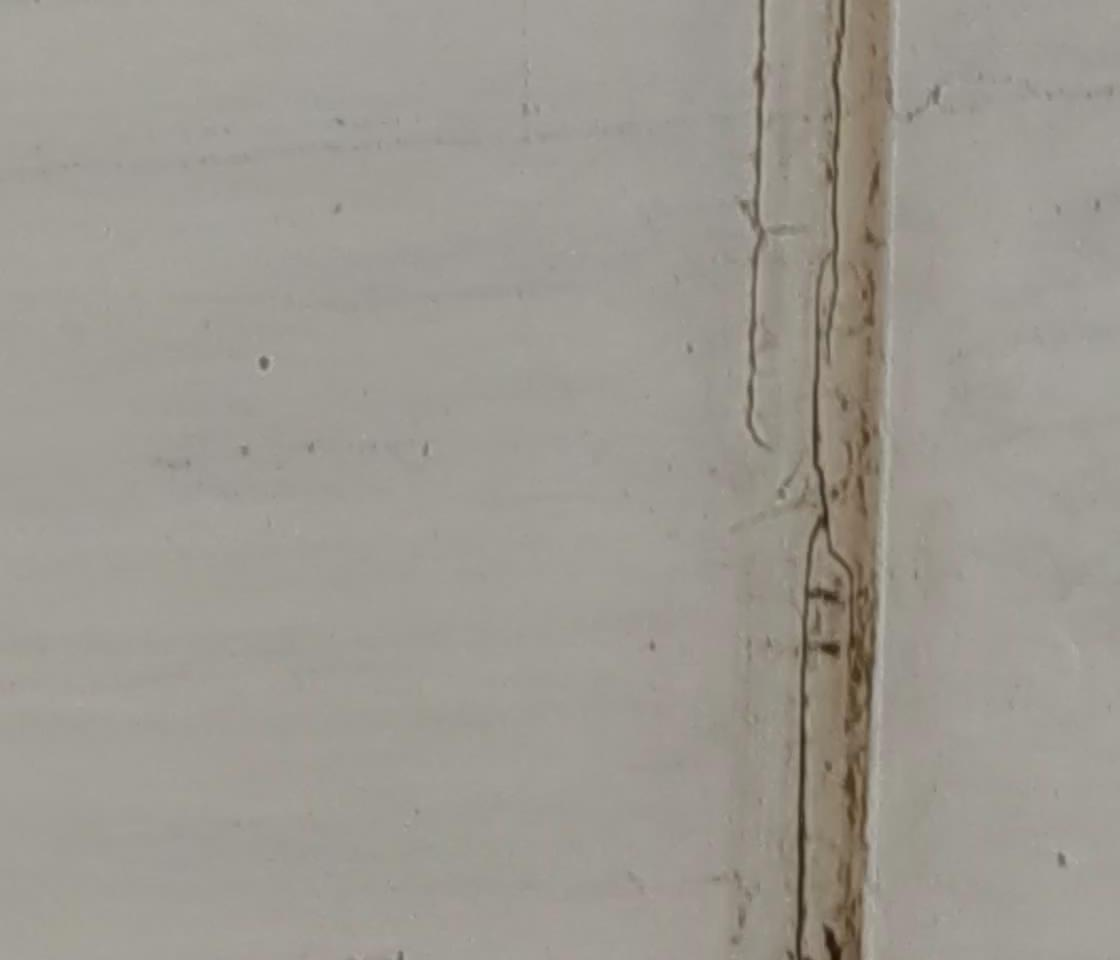scratch: (248, 347, 281, 379)
